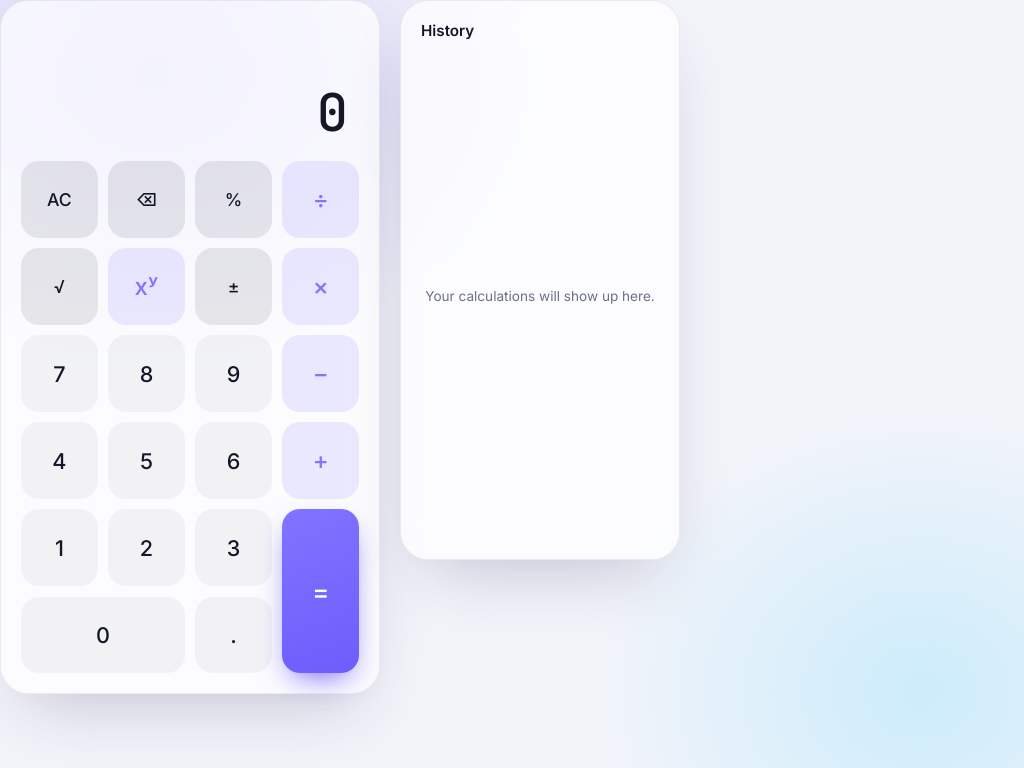
Test: Calculator › chains operations left to right
The width and height of the screenshot is (1024, 768).
Click the button "2".
click(146, 548)  # box x1=108 y1=509 x2=185 y2=586
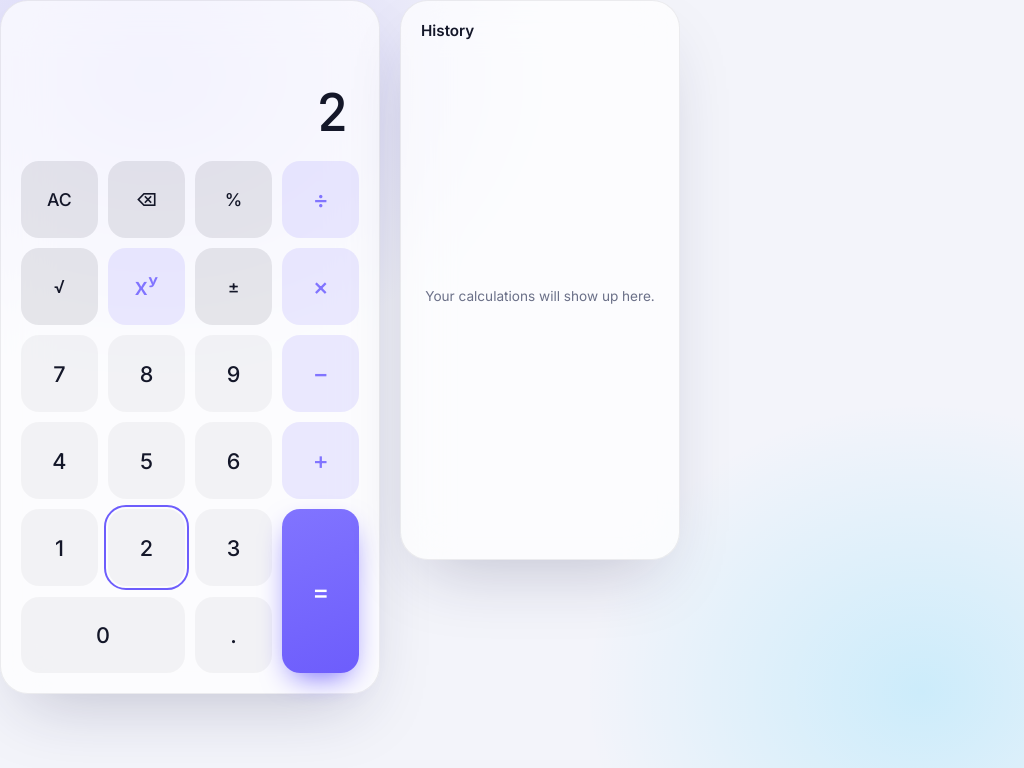
Click the button named "add".
click(321, 461)  # box x1=282 y1=422 x2=359 y2=499
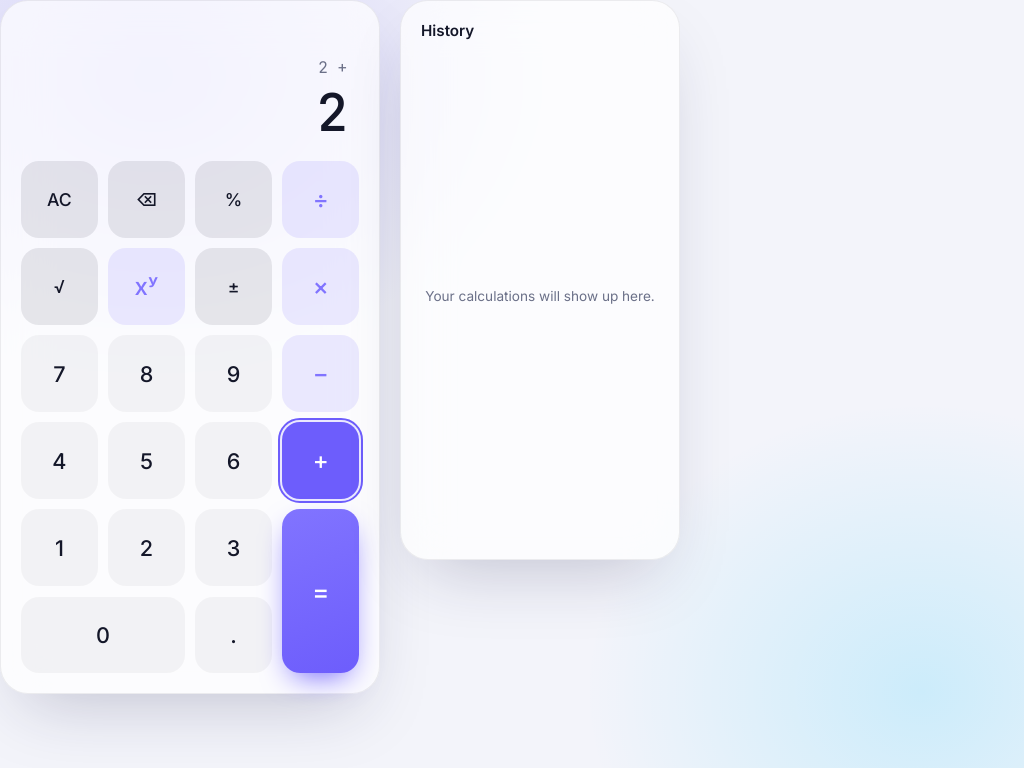
Click the button "3".
click(234, 548)  # box x1=195 y1=509 x2=272 y2=586
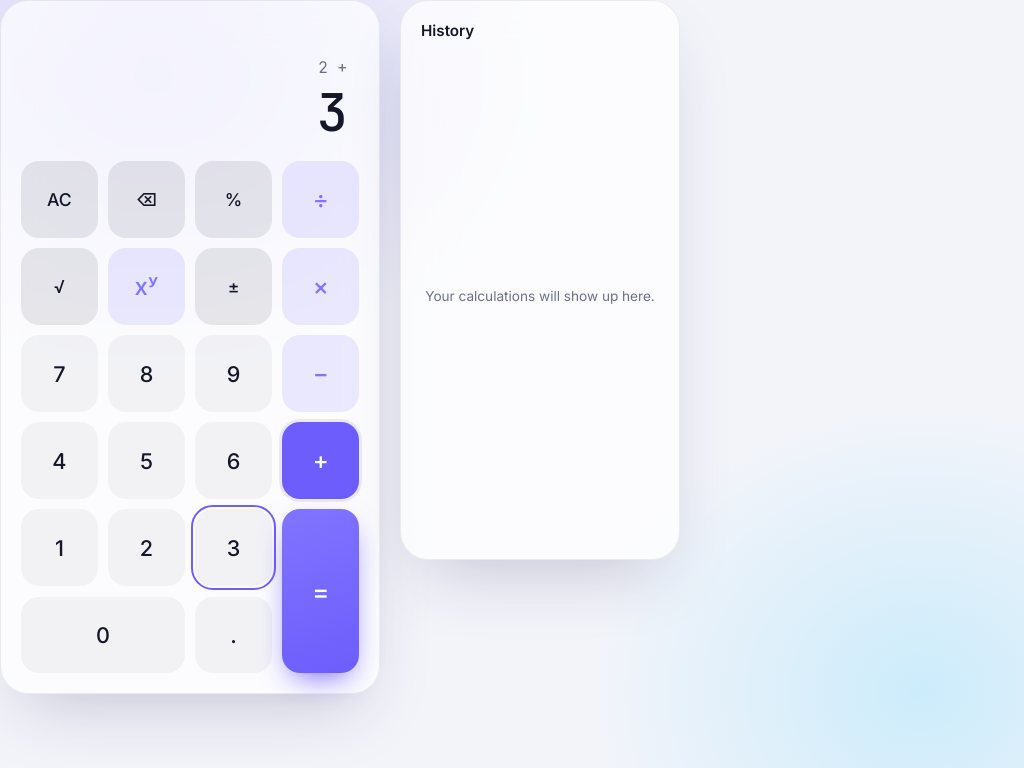
Click the button named "multiply".
click(321, 286)  # box x1=282 y1=248 x2=359 y2=325
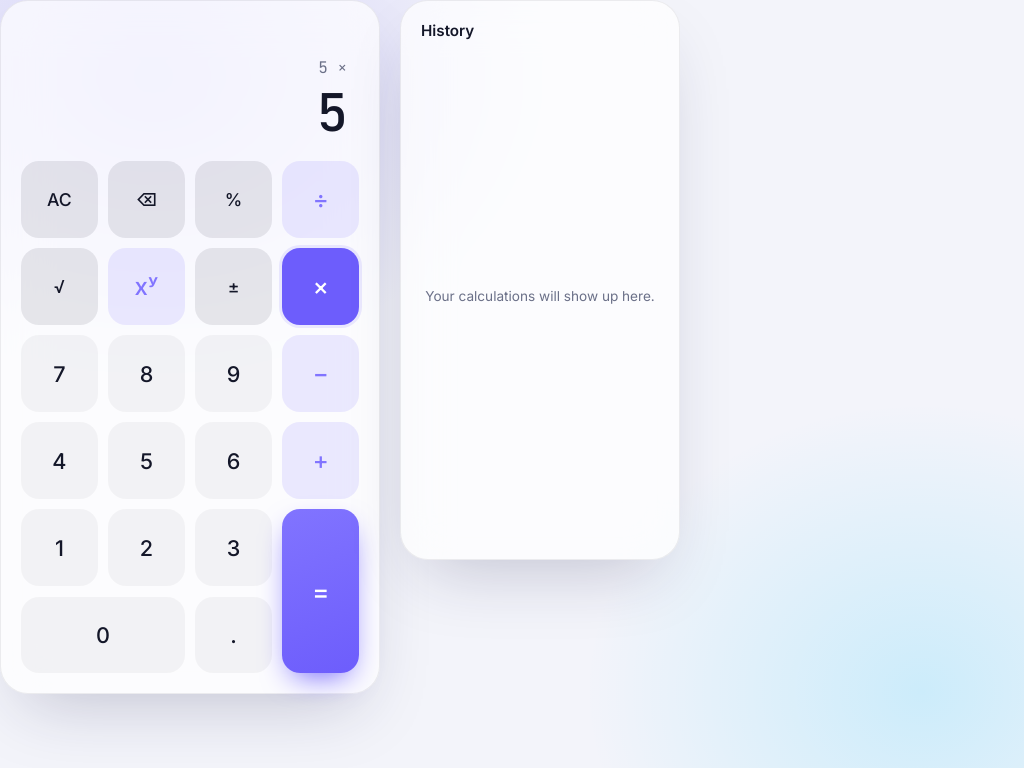
Check: the text with test id "display" reads "5", box x1=317 y1=78 x2=347 y2=147
Click the button "4".
click(59, 461)  # box x1=21 y1=422 x2=98 y2=499
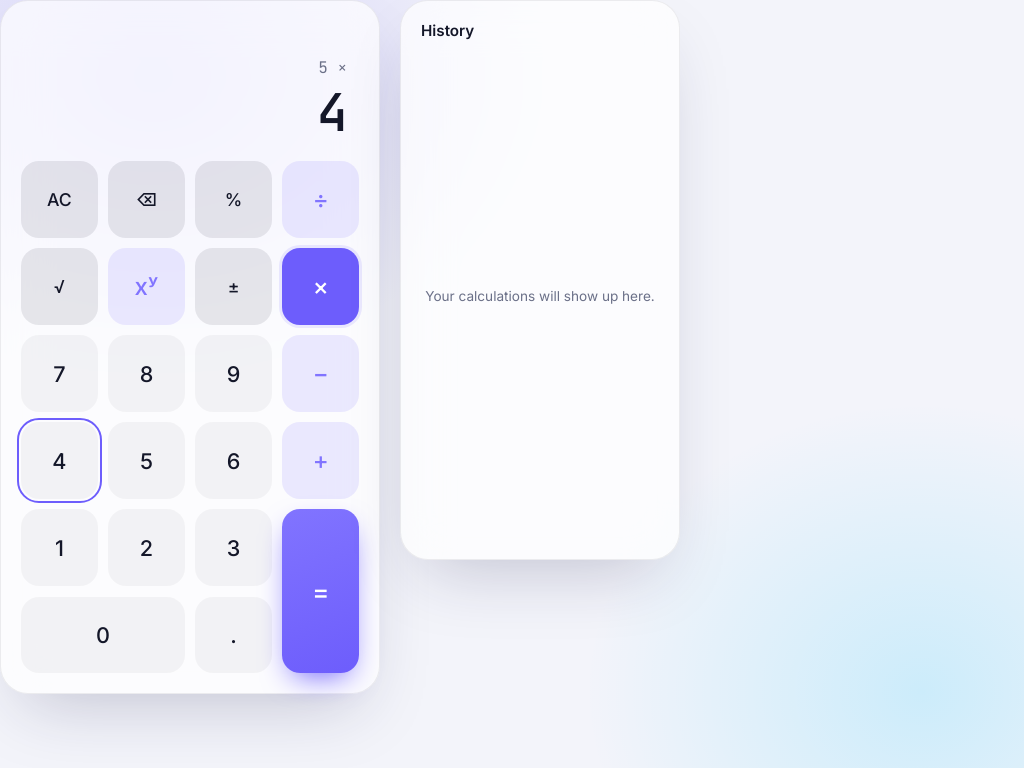
Click the button named "equals".
click(321, 591)  # box x1=282 y1=509 x2=359 y2=673
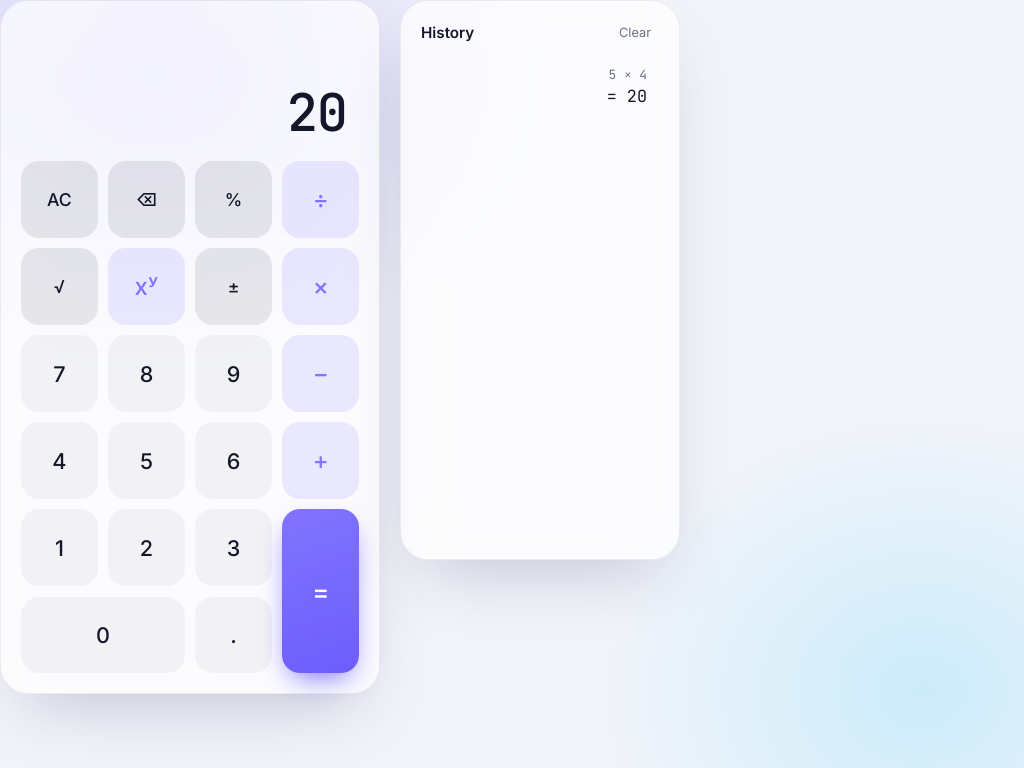
Check: the text with test id "display" reads "20", box x1=287 y1=78 x2=347 y2=147
